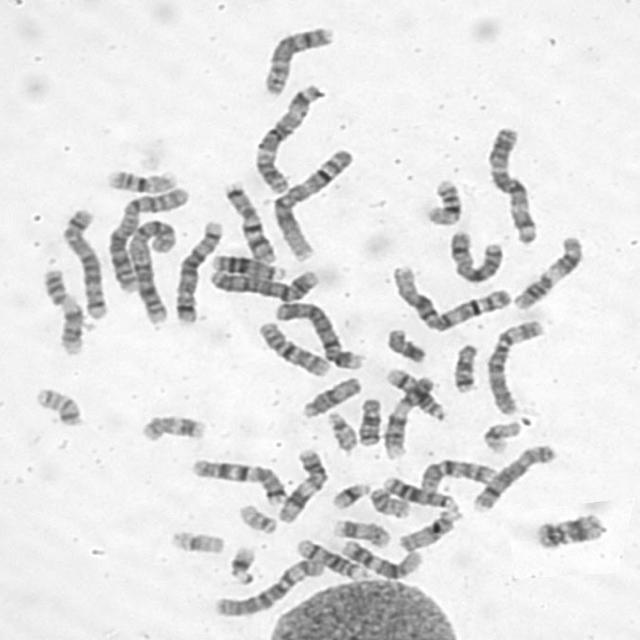A1: (268, 143, 356, 264), (386, 259, 512, 333)
A2: (101, 182, 192, 295), (119, 211, 178, 326)
A3: (248, 78, 324, 194), (482, 120, 540, 245)
B4: (269, 296, 367, 372), (204, 262, 322, 303)
B5: (55, 202, 110, 320), (169, 216, 225, 325)
C10: (253, 316, 333, 378), (413, 454, 498, 493)
C11: (506, 230, 584, 311), (272, 444, 330, 524)
C12: (528, 511, 613, 557), (336, 535, 423, 579)
C6: (208, 552, 326, 619), (482, 314, 547, 417)
C7: (186, 454, 288, 506), (218, 176, 278, 264)
C8: (466, 439, 558, 513), (258, 20, 336, 97)
C9: (378, 370, 436, 460), (36, 263, 86, 356)
D13: (378, 471, 460, 512), (207, 250, 287, 282)
D14: (380, 362, 448, 423), (290, 533, 371, 581)
D15: (392, 505, 460, 554), (297, 372, 362, 419)
E16: (100, 164, 180, 194), (419, 174, 464, 226)
E17: (134, 409, 208, 444), (328, 514, 392, 550)
E18: (448, 338, 480, 394), (353, 394, 384, 446)
F19: (163, 524, 227, 556), (477, 415, 522, 455)
F20: (29, 382, 85, 428), (364, 482, 412, 518)
G21: (223, 540, 259, 585), (326, 477, 372, 510)
G22: (322, 407, 359, 453), (232, 500, 278, 536)
X: (444, 224, 506, 285)
Y: (380, 323, 428, 364)
